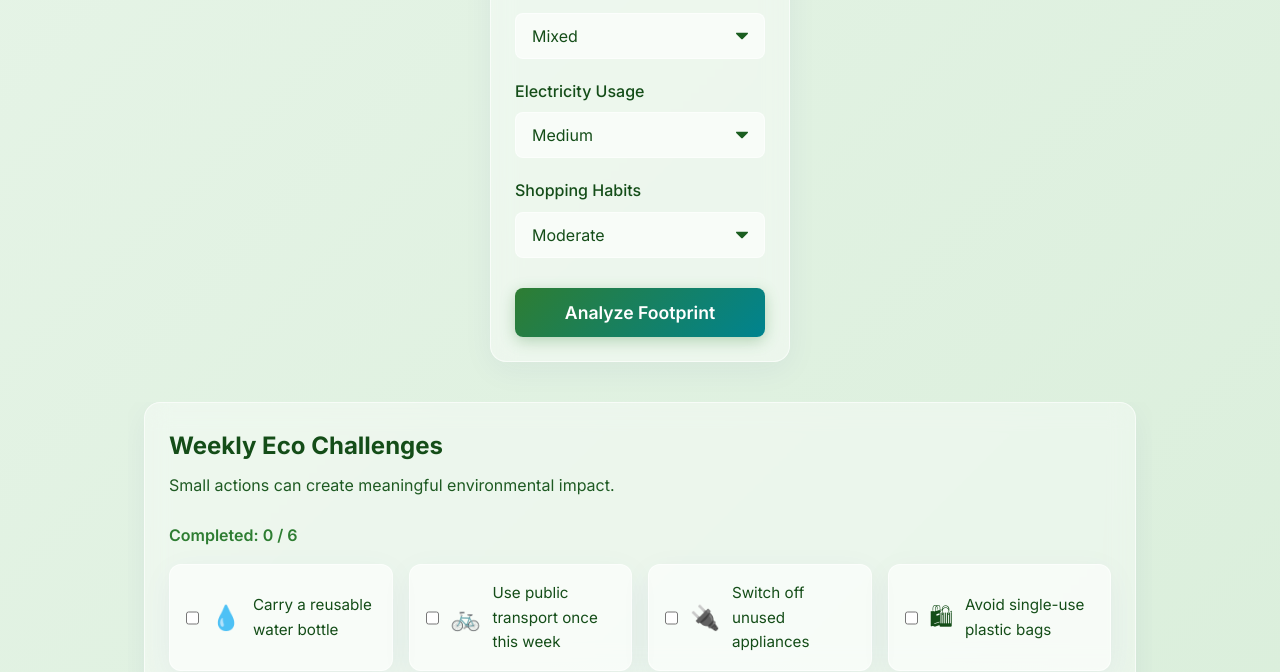
Test: EcoTrack AI Application › renders Personalized Eco Tips section asynchronously
The width and height of the screenshot is (1280, 672).
(page scrolled)
Click the button "Analyze Footprint". click: (640, 312)
box: x1=515 y1=288 x2=765 y2=337
(page scrolled)
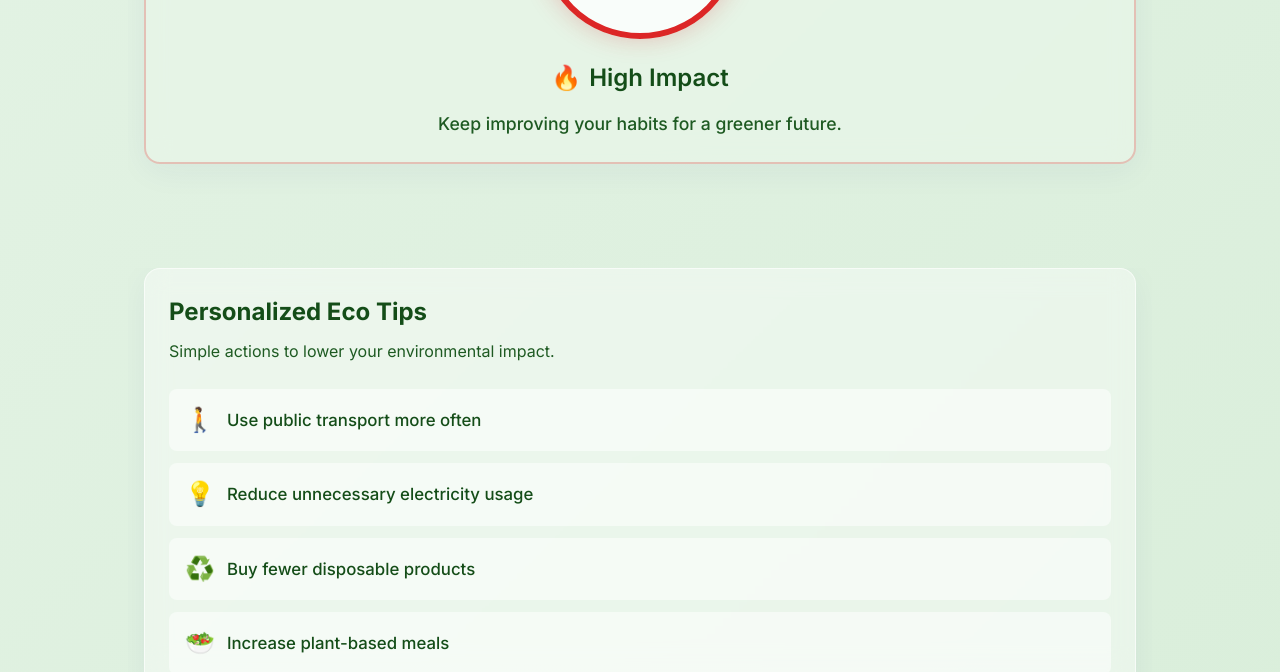
Expected: the heading "Personalized Eco Tips" is shown, x1=169 y1=297 x2=427 y2=326
